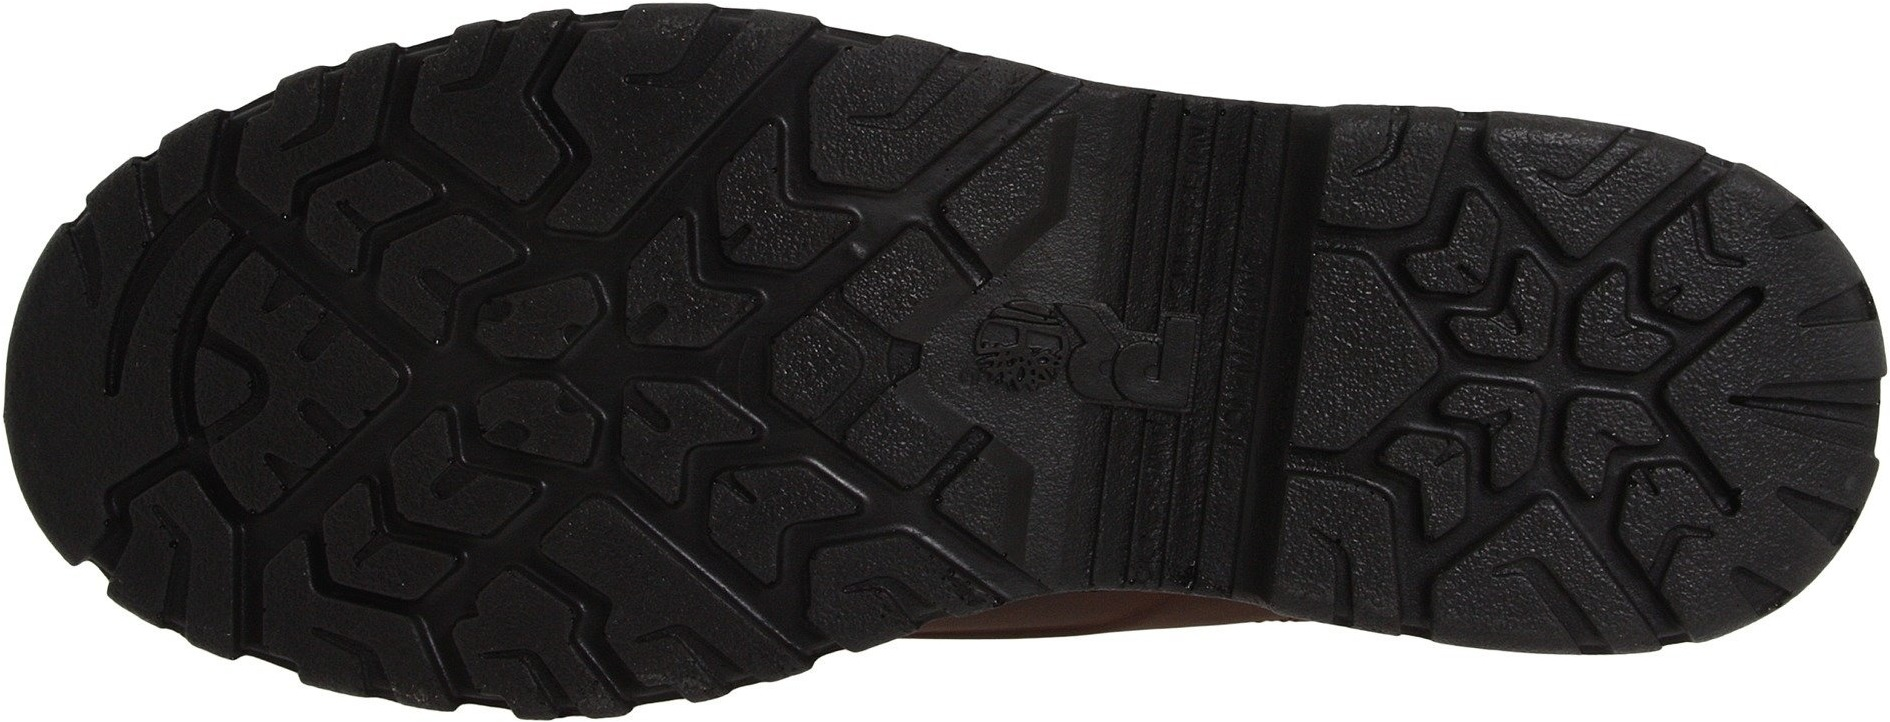chevron: (1451, 260, 1671, 493), (626, 178, 810, 358), (333, 432, 516, 603)
